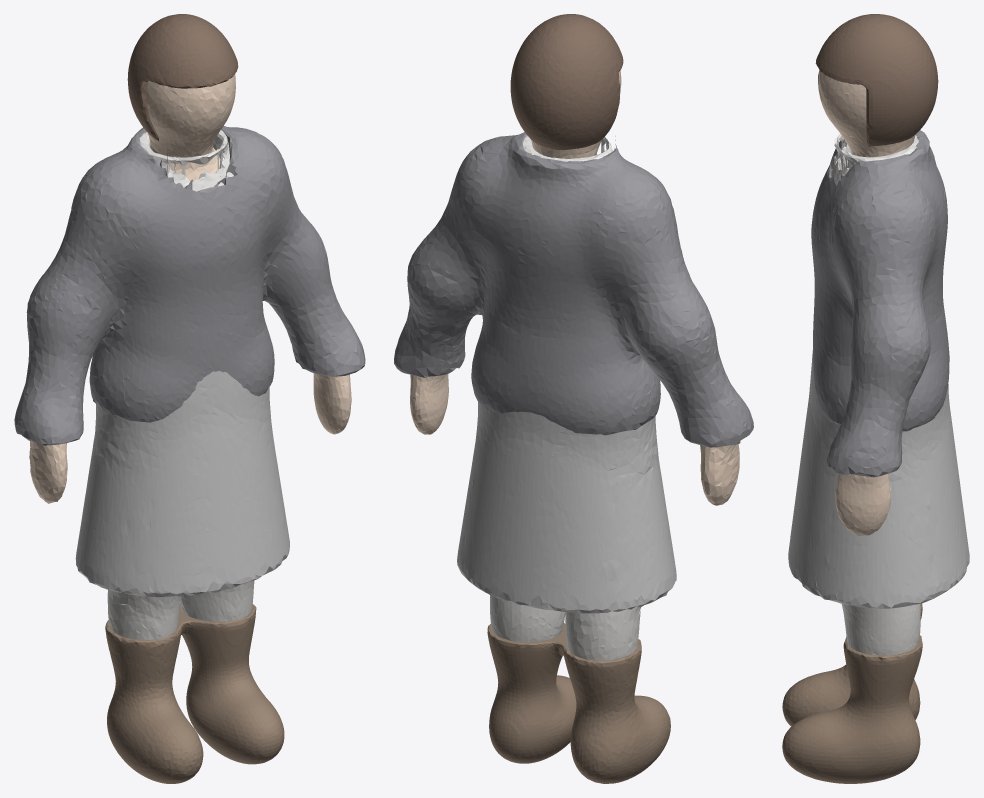
File: kid.glb
3 views of the same model, side by side, from view 1: azimuth 30°, elevation 25°; view 2: azimuth 150°, elevation 25°; view 3: azimuth 270°, elevation 25° (orthographic). The views are drawn at different scales.
Parts seen in each view (by area): view 1: top_jacket, dress, shoes_boot, skin, hair, pants_long, top_short; view 2: top_jacket, dress, shoes_boot, hair, pants_long, skin; view 3: top_jacket, dress, shoes_boot, hair, skin, pants_long, top_short.
Part boxes in pixels (<box>): top_jacket: <box>14,126,365,445</box>; dress: <box>75,370,289,596</box>; shoes_boot: <box>105,603,284,783</box>; skin: <box>29,74,351,503</box>; hair: <box>127,14,238,140</box>; pants_long: <box>107,580,254,639</box>; top_short: <box>139,130,233,191</box>; top_jacket: <box>394,132,753,447</box>; dress: <box>457,401,676,613</box>; shoes_boot: <box>487,623,670,783</box>; hair: <box>510,14,623,149</box>; pants_long: <box>490,595,640,660</box>; skin: <box>410,70,739,505</box>; top_jacket: <box>811,130,949,477</box>; dress: <box>788,350,969,608</box>; shoes_boot: <box>782,603,922,783</box>; hair: <box>815,14,938,146</box>; skin: <box>818,70,915,535</box>; pants_long: <box>841,604,920,655</box>; top_short: <box>831,133,918,185</box>.
Bounding box in the file's own units: 0.6304 × 1.31 × 0.2994.
